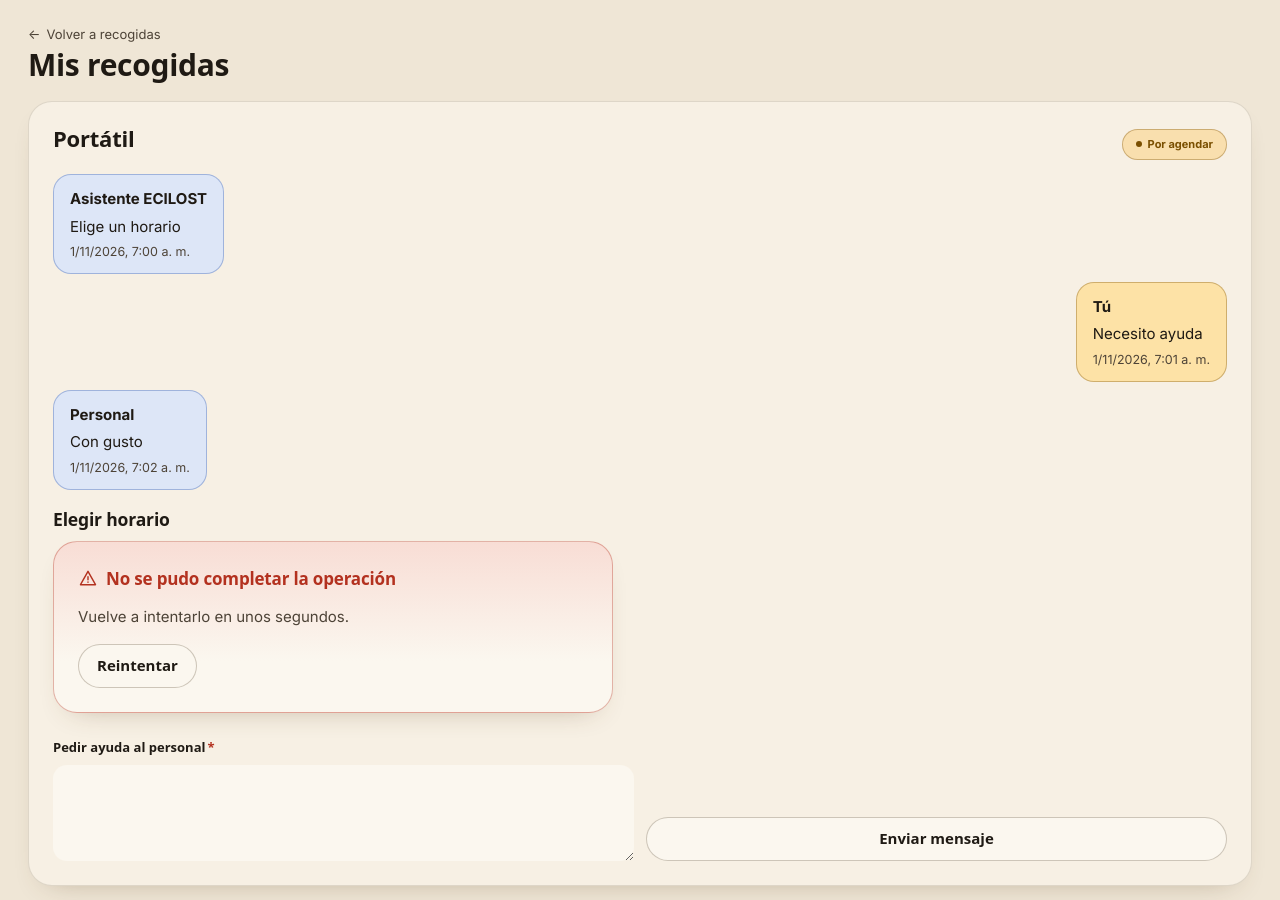
it: pickup screens › shows no availability and retries a failed slots read
Click the button "Reintentar" at (137, 666), box [78,644,197,688]
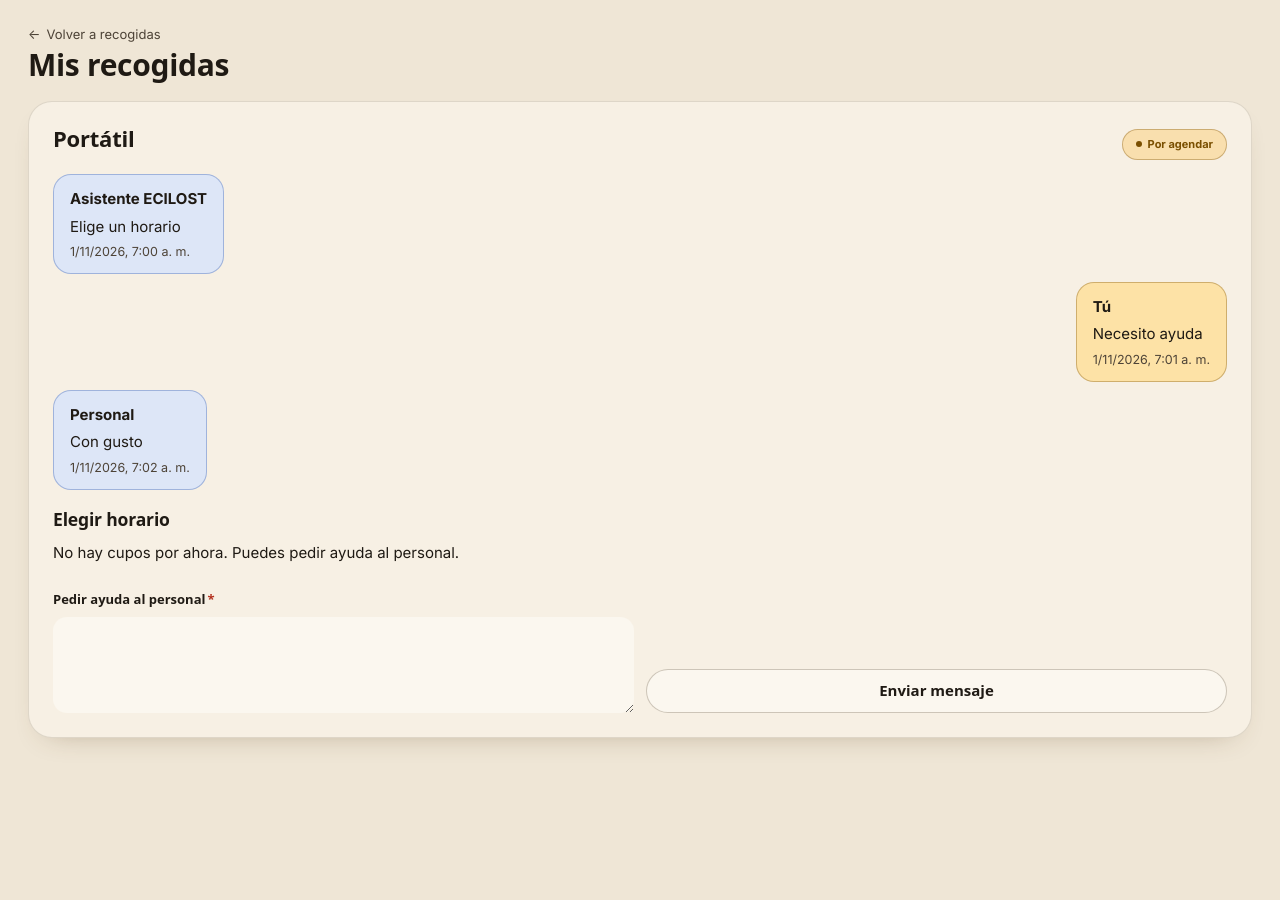
expect the text "No hay cupos por ahora. Puedes pedir ayuda al personal." is shown: met, box [53,543,459,562]
